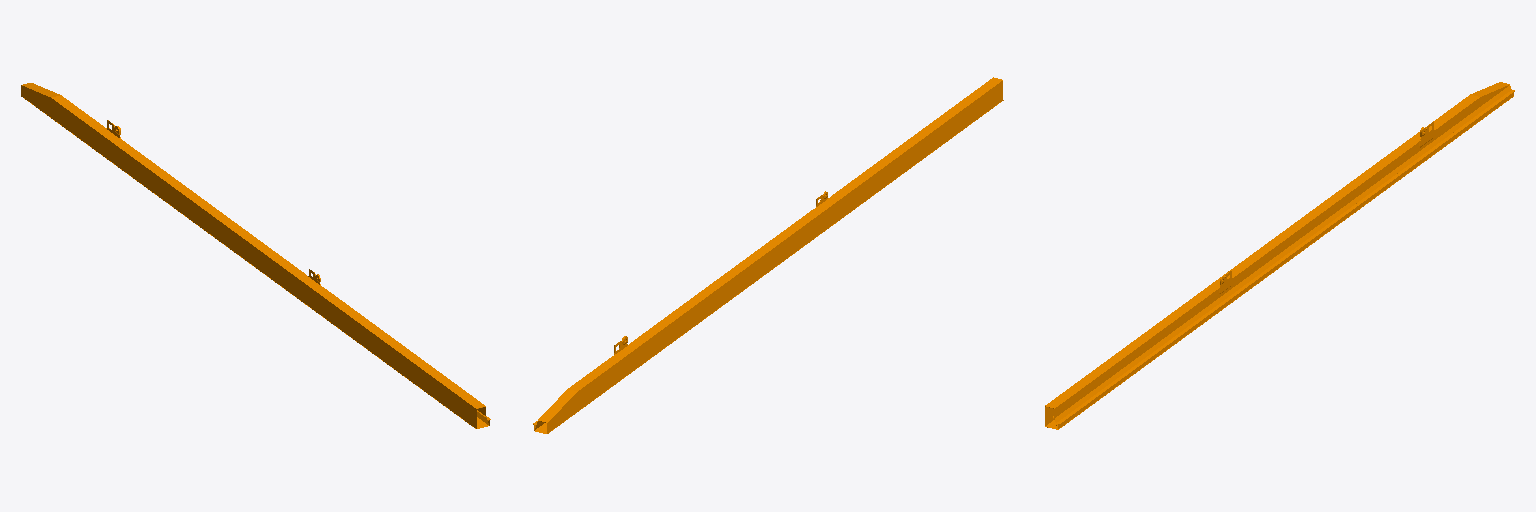
robot.urdf — xiangliang.SLDPRT:
<?xml version="1.0" encoding="utf-8"?>
<!-- This URDF was automatically created by SolidWorks to URDF Exporter! Originally created by [author] ([email redacted]) 
     Commit Version: 1.5.1-0-g916b5db  Build Version: 1.5.7152.31018
     For more information, please see http://wiki.ros.org/sw_urdf_exporter -->
<robot
  name="xiangliang.SLDPRT">
  <link
    name="xiangliang">
    <inertial>
      <origin
        xyz="0 0 0"
        rpy="0 0 0" />
      <mass
        value="9999.1" />
      <inertia
        ixx="3264100"
        ixy="-529.44"
        ixz="-930.54"
        iyy="3261600"
        iyz="-970.000000000199"
        izz="5341" />
    </inertial>
    <visual>
      <origin
        xyz="0 0 0"
        rpy="0 0 0" />
      <geometry>
        <mesh
          filename="package://xiangliang/meshes/xiangliang.STL" />
      </geometry>
      <material
        name="">
        <color
          rgba="1 0.6 0 1" />
        <texture
          filename="package://xiangliang/textures/" />
      </material>
    </visual>
    <collision>
      <origin
        xyz="0 0 0"
        rpy="0 0 0" />
      <geometry>
        <mesh
          filename="package://xiangliang/meshes/xiangliang.STL" />
      </geometry>
    </collision>
  </link>
</robot>

--- What the picture shows (computed from the rendered views, not written in the file) ---
The picture shows the robot from 3 angles, left to right: view 1: azimuth 30°, elevation 25°; view 2: azimuth 150°, elevation 25°; view 3: azimuth 330°, elevation 25°; orthographic projection.
Robot: xiangliang.SLDPRT — 1 links, 0 joints (none); root link xiangliang; default pose: every joint at zero.
Links seen in each view (by area): view 1: xiangliang; view 2: xiangliang; view 3: xiangliang.
Link boxes in pixels (bbox=[...]): xiangliang: bbox=[21, 83, 490, 428]; xiangliang: bbox=[533, 77, 1003, 433]; xiangliang: bbox=[1045, 82, 1514, 429].
Bounding box of the posed robot: 1.43 × 73.94 × 2.82 m (x, y, z).
Meshes: 1 distinct files referenced, 1 mesh visuals loaded (1 binary STL).
